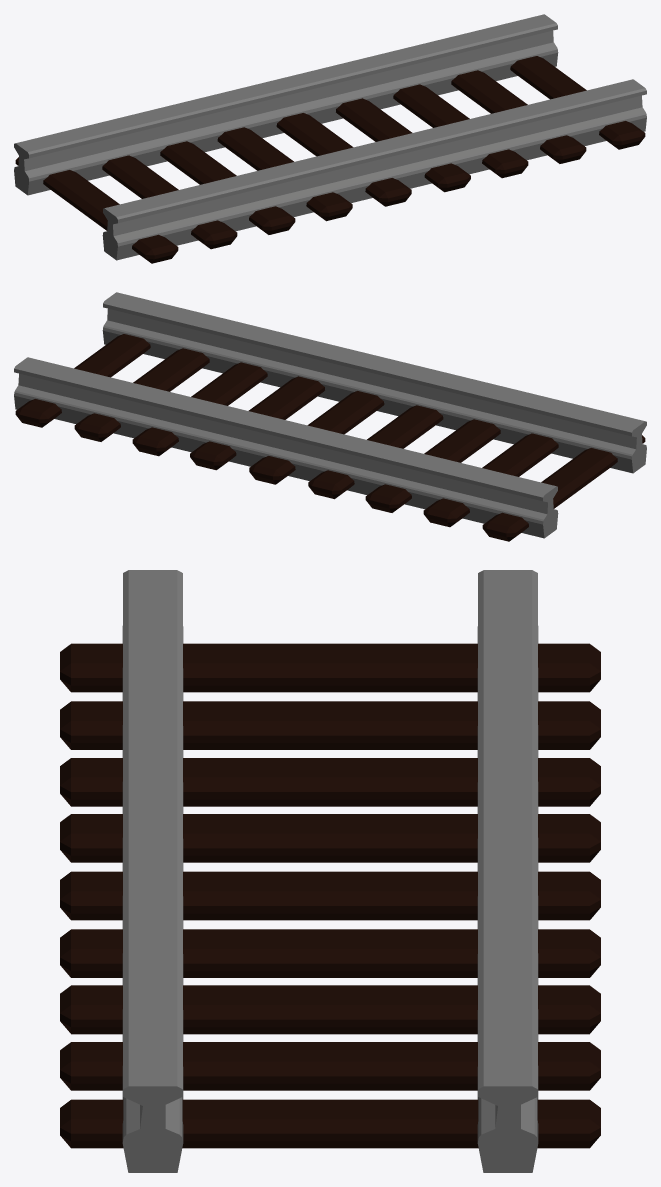
The model's file is M_Rail.fbx.
3 views of the same model, one above another, from view 1: azimuth 30°, elevation 25°; view 2: azimuth 150°, elevation 25°; view 3: azimuth 270°, elevation 25° (orthographic). The views are drawn at different scales.
Visible parts, largest first — view 1: Railroad; view 2: Railroad; view 3: Railroad.
Part boxes in pixels (x1,y1,x2,y2): Railroad: (14,14,646,263); Railroad: (14,292,646,541); Railroad: (60,570,600,1172).
Size of the model in its own units: 232 by 18.16 by 103.
